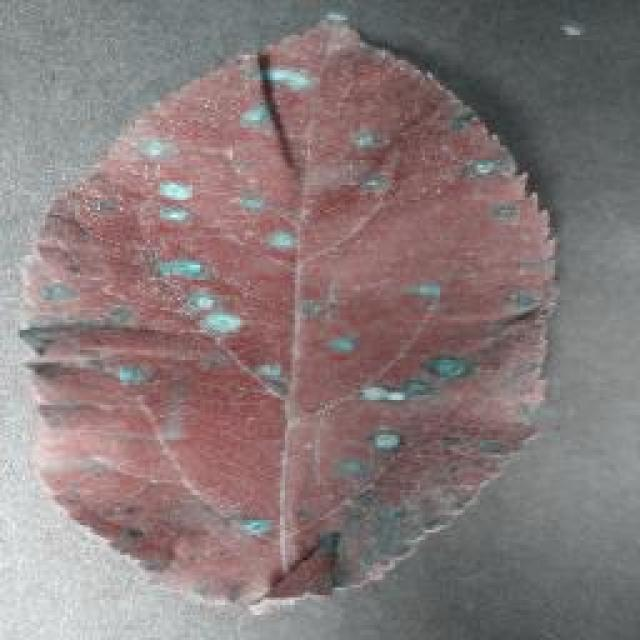apple cedar apple rust: (15, 10, 563, 608)
